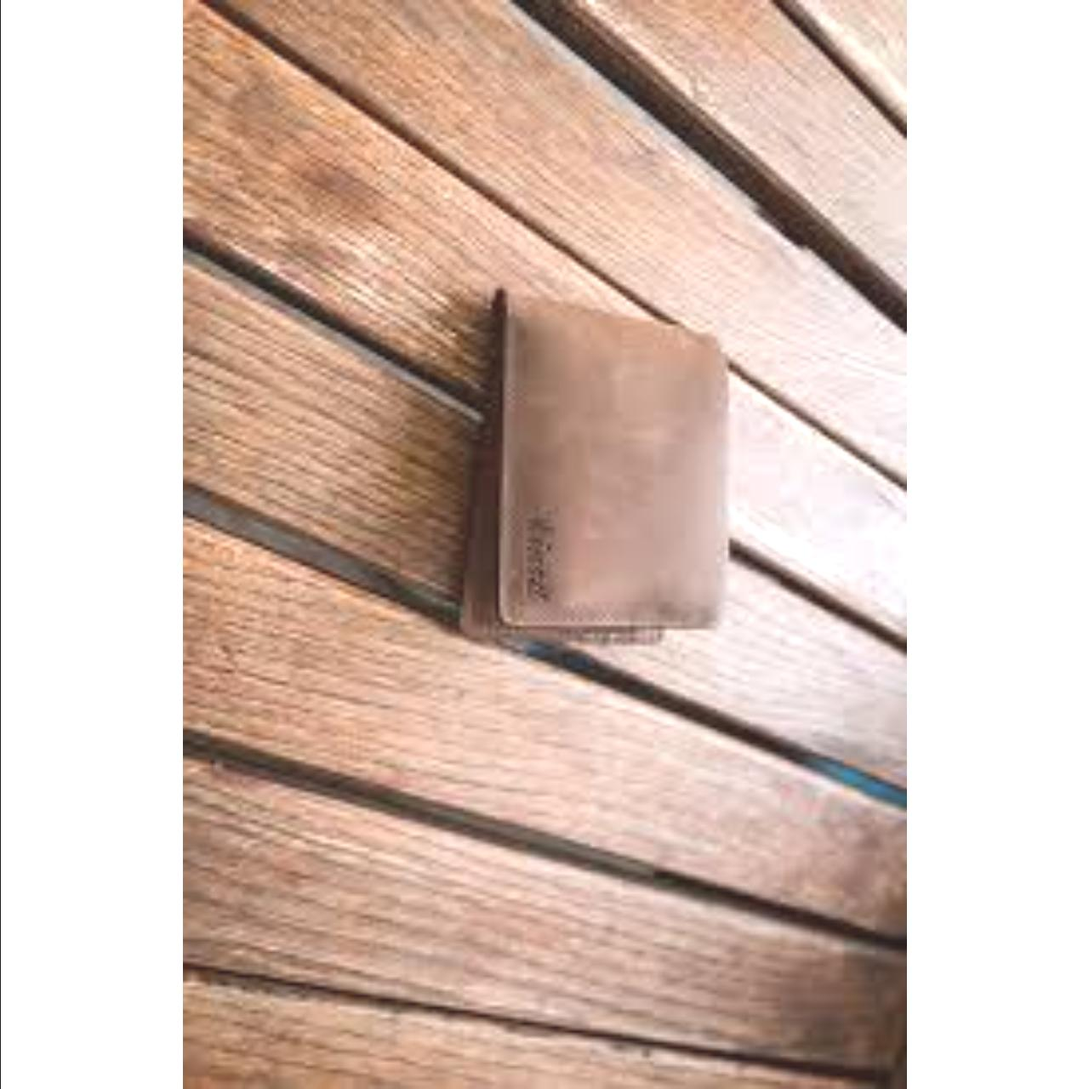wallet: (335, 239, 786, 829)
